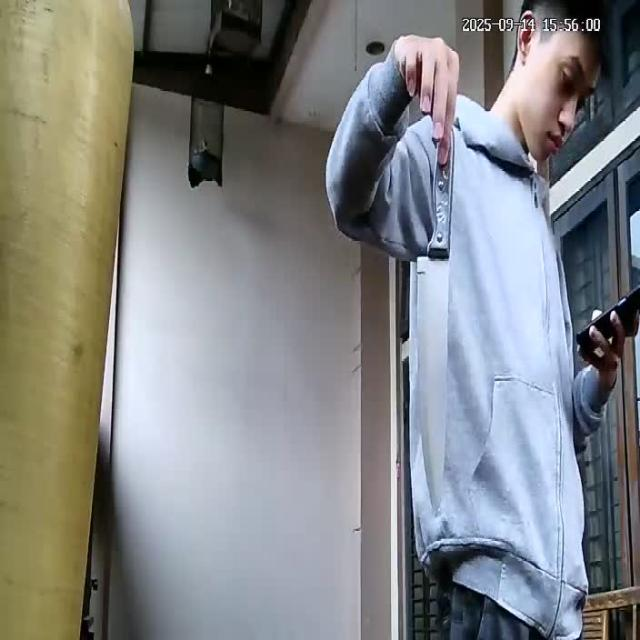senjata_tajam: (413, 165, 455, 517)
